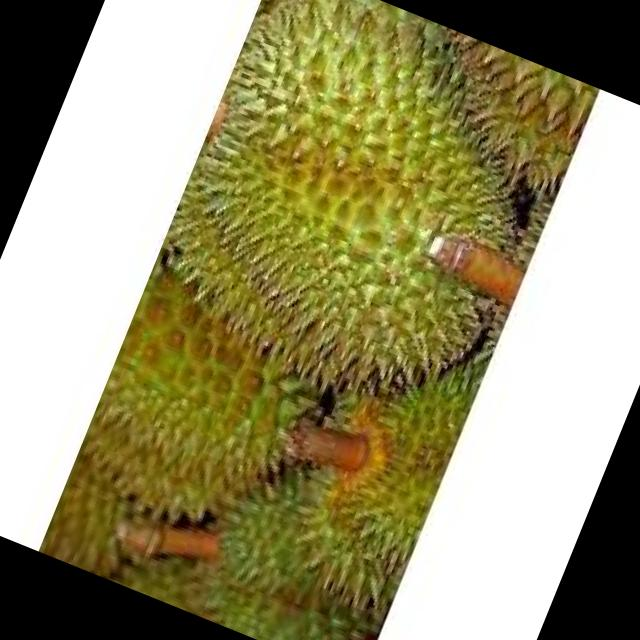fruit: (122, 0, 589, 457), (59, 268, 388, 592)
